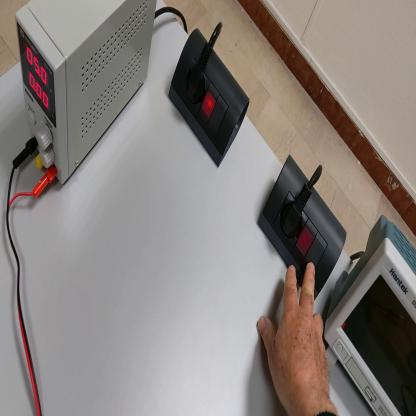hand: (257, 262, 334, 416)
oscilloscope: (326, 217, 416, 416)
power supply: (15, 1, 158, 187)
socket: (257, 155, 347, 300), (169, 18, 250, 171)
